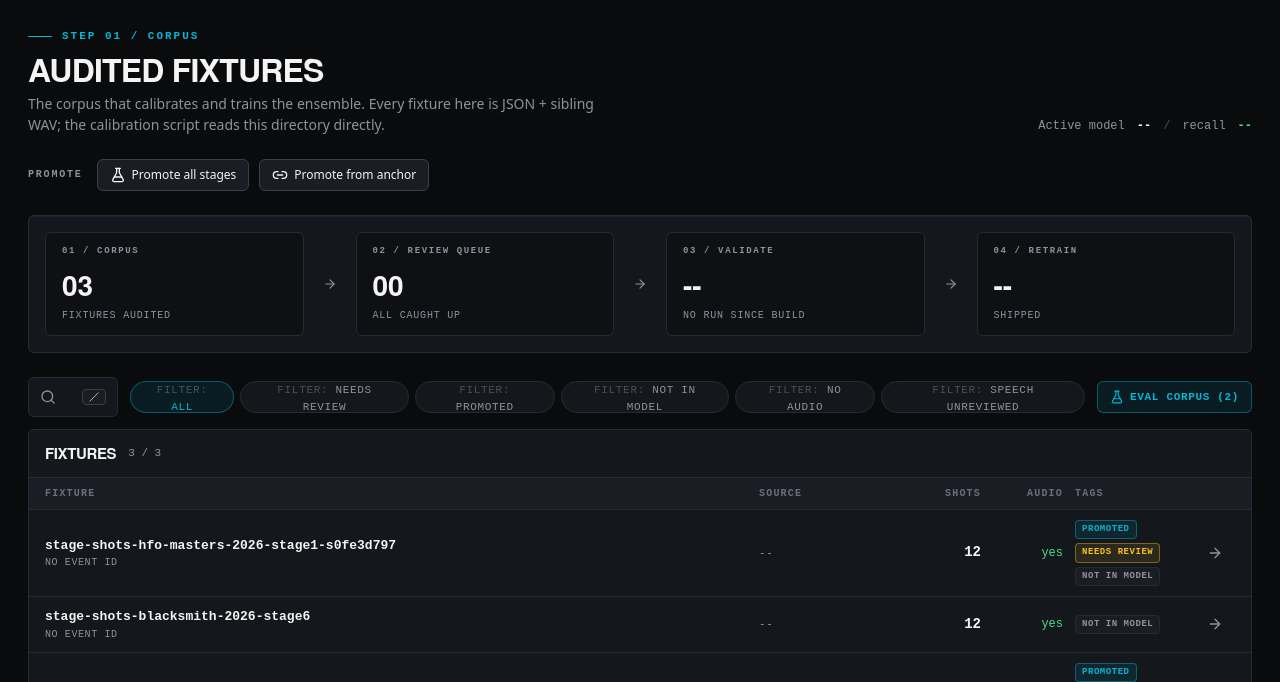
DevCorpus subset eval › runs the eval scoped to the filtered, audio-bearing fixtures
Check: the button "stage-shots-hfo-masters-2026-stage1-s0fe3d797" is shown, box [45, 536, 396, 555]
Click the button "filter: needs review" at (324, 397), box [240, 381, 409, 413]
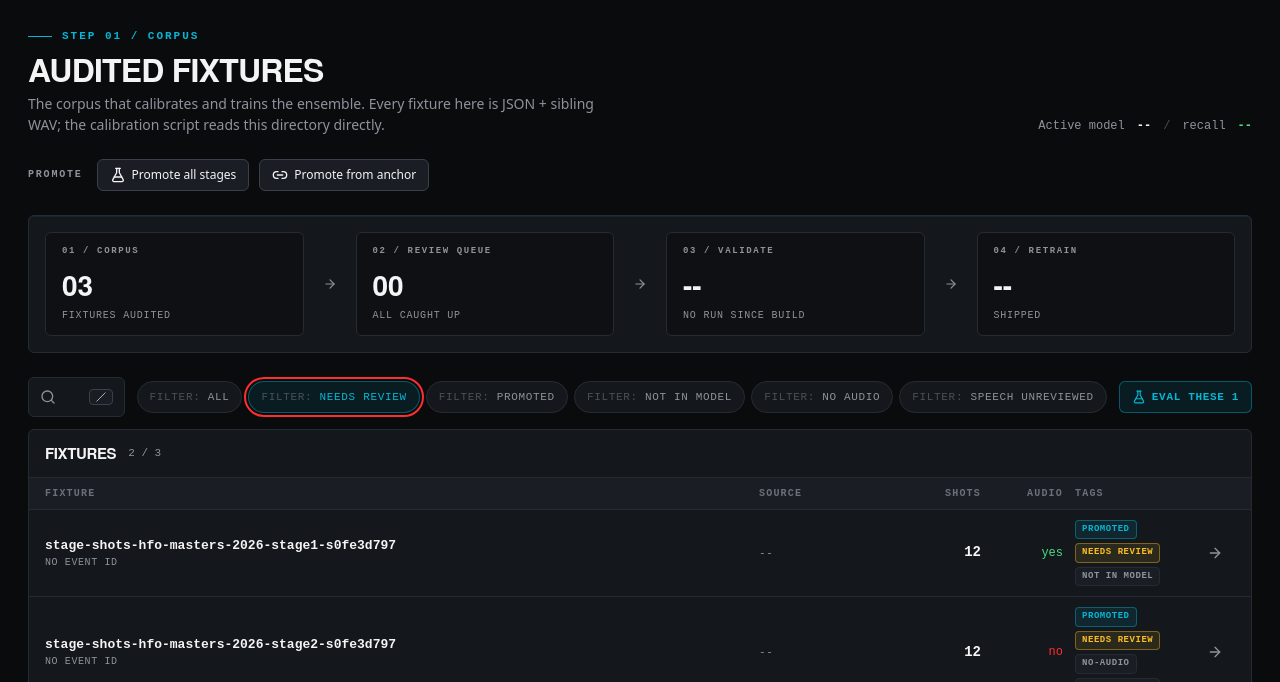
Click the button "Eval these 1" at (1185, 397), box [1119, 381, 1252, 413]
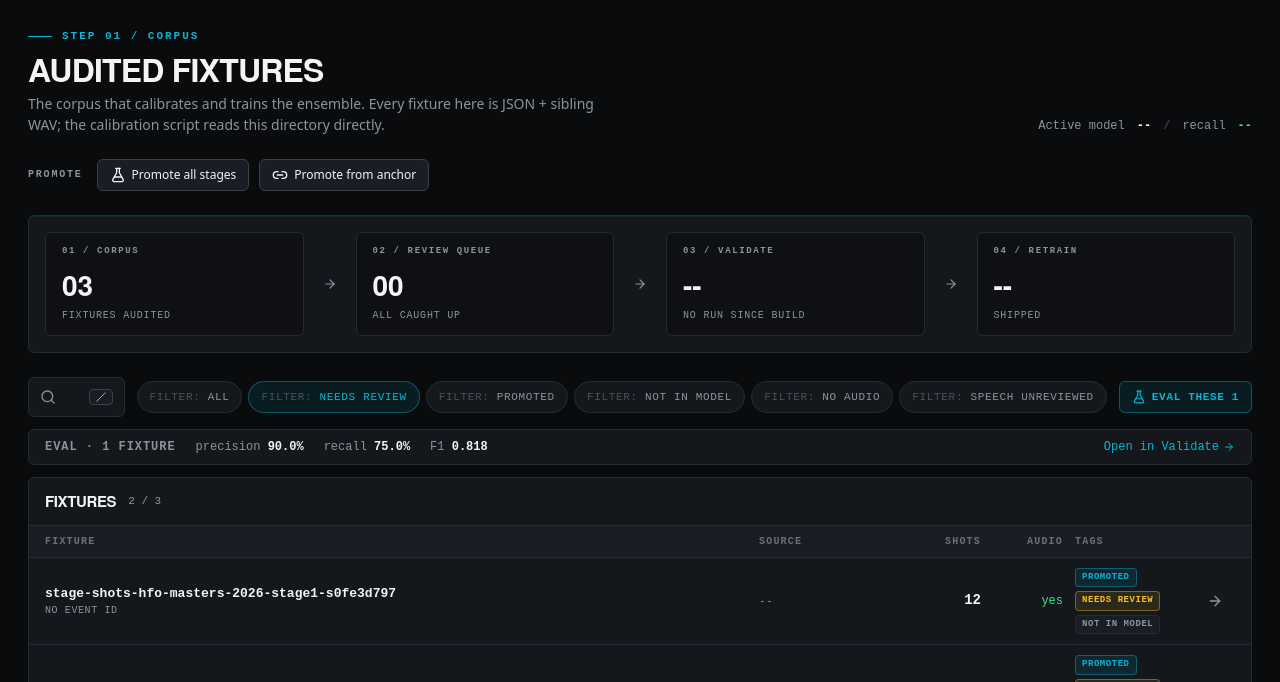
Check: the text "90.0%" is shown, box [268, 440, 304, 454]
Check: the text "75.0%" is shown, box [374, 440, 410, 454]
